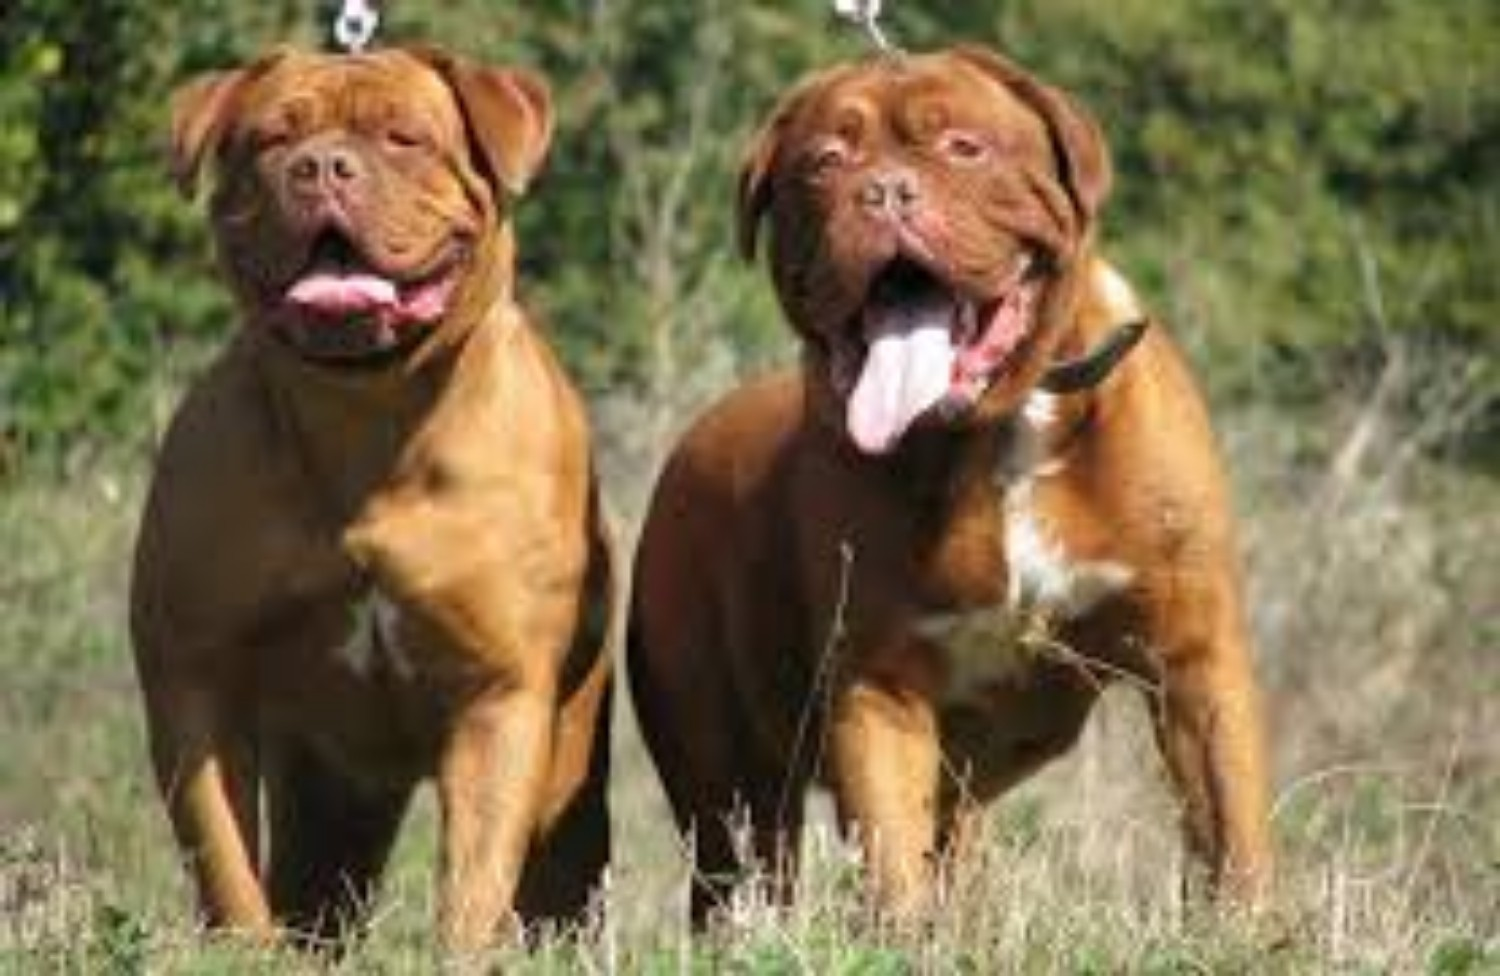dogue_de_bordeaux: (625, 40, 1282, 940), (131, 42, 625, 955)
